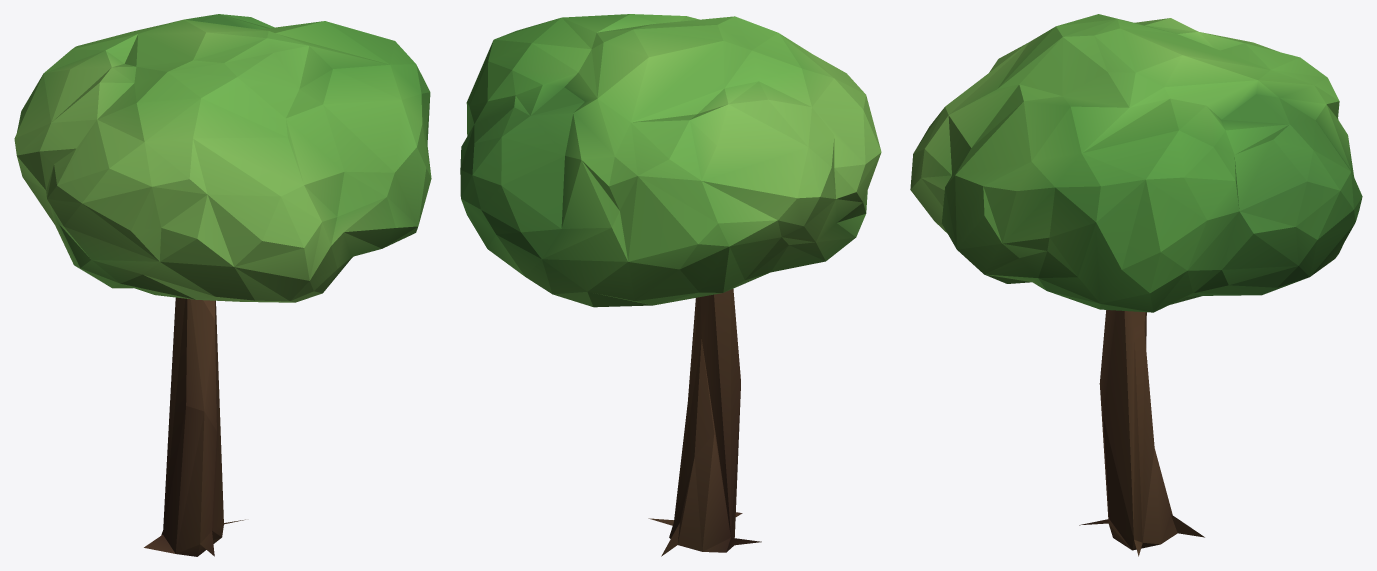
Rendered from broadleaf_mature_irregular_far.glb.
3 renders of one model, left to right at view 1: azimuth 30°, elevation 25°; view 2: azimuth 150°, elevation 25°; view 3: azimuth 270°, elevation 25°, orthographic. The views are drawn at different scales.
Parts seen in each view (by area): view 1: broadleaf_mature_irregular_LOD3; view 2: broadleaf_mature_irregular_LOD3; view 3: broadleaf_mature_irregular_LOD3.
Boxes of the visible parts, x1,y1,x2,y2 form: broadleaf_mature_irregular_LOD3: [14, 14, 431, 556]; broadleaf_mature_irregular_LOD3: [460, 14, 881, 556]; broadleaf_mature_irregular_LOD3: [910, 14, 1362, 556].
Bounding box in the file's own units: 3.86 × 4.9 × 3.93.
